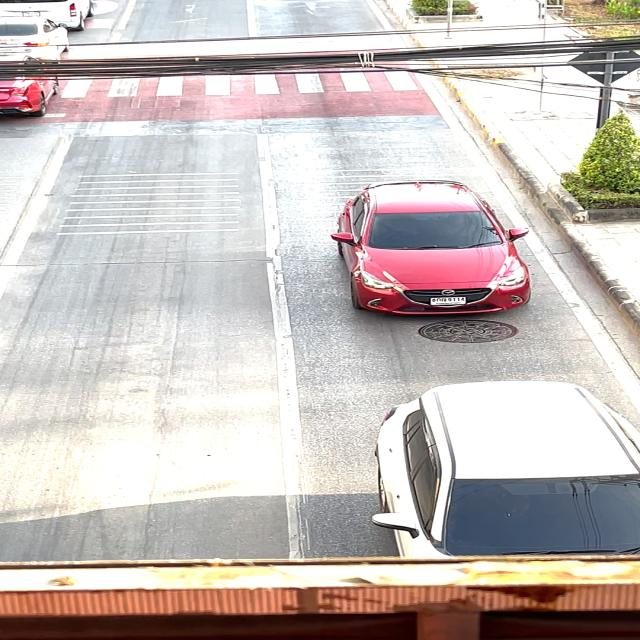car: (356, 376, 640, 560), (314, 160, 540, 325)
